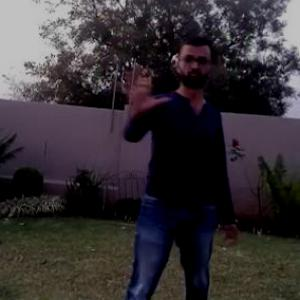follow_hand: (116, 58, 172, 116)
